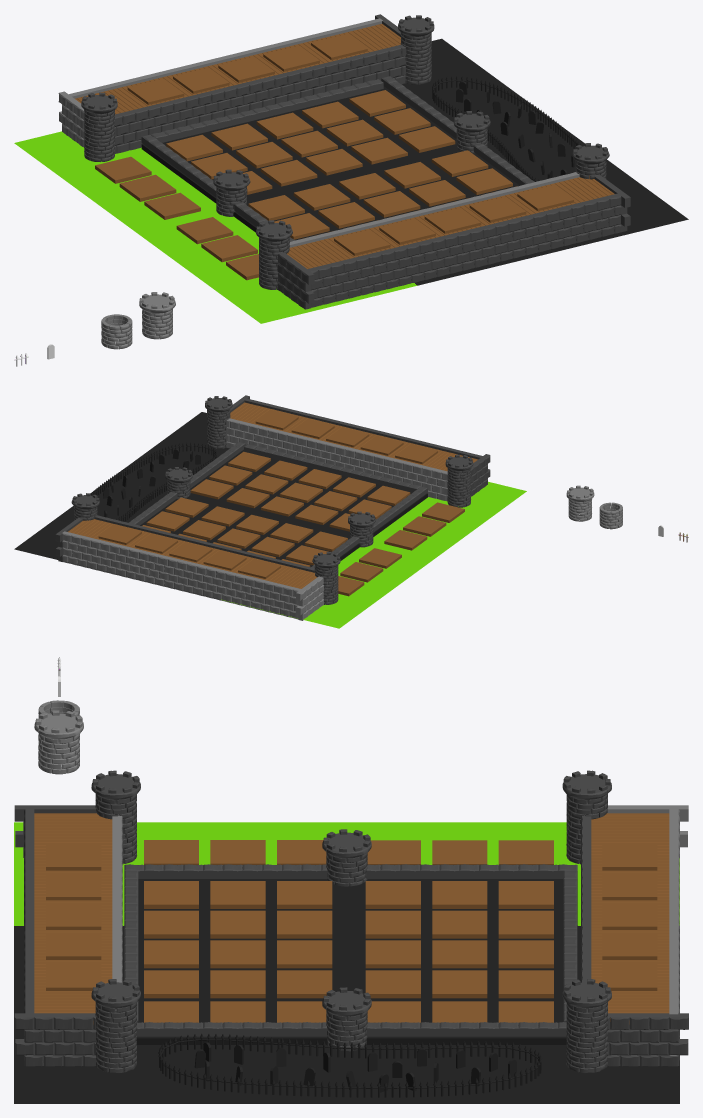
File: NewBoard.fbx
3 views of the same model, one above another, from view 1: azimuth 30°, elevation 25°; view 2: azimuth 150°, elevation 25°; view 3: azimuth 270°, elevation 25° (orthographic). The views are drawn at different scales.
Parts seen in each view (by area): view 1: Plane, Cube, Cube.179, Cube.191, Cube.038, Cube.051, Cube.180, Cube.181, Cube.037, Cube.182, Cube.004, Cube.036 (+55 smaller); view 2: Plane, Cube, Cube.039, Cube.051, Cube.178, Cube.191, Cube.042, Cube.040, Cube.041, Cube.177, Cube.003, Cylinder.001 (+54 smaller); view 3: Plane, Cube, Cube.051, Cube.191, Cylinder.001, Cube.002, Cube.001, Cube.121, Cube.055, Cube.195, Cube.062, Cube.061 (+66 smaller).
Boxes of the visible parts, left/top/right/bottom form: Plane: left=14, top=38, right=688, bottom=323; Cube: left=141, top=86, right=519, bottom=240; Cube.179: left=302, top=193, right=621, bottom=279; Cube.191: left=287, top=175, right=614, bottom=268; Cube.038: left=98, top=44, right=406, bottom=126; Cube.051: left=75, top=24, right=400, bottom=114; Cube.180: left=311, top=205, right=621, bottom=290; Cube.181: left=301, top=214, right=620, bottom=301; Cube.037: left=115, top=56, right=406, bottom=136; Cube.182: left=311, top=224, right=621, bottom=307; Cube.004: left=151, top=79, right=383, bottom=142; Cube.036: left=98, top=66, right=406, bottom=145; Plane: left=14, top=412, right=526, bottom=628; Cube: left=140, top=449, right=427, bottom=567; Cube.039: left=62, top=531, right=304, bottom=596; Cube.051: left=68, top=519, right=316, bottom=588; Cube.178: left=226, top=418, right=459, bottom=483; Cube.191: left=230, top=402, right=477, bottom=471; Cube.042: left=62, top=555, right=298, bottom=619; Cube.040: left=62, top=540, right=298, bottom=604; Cube.041: left=63, top=547, right=305, bottom=613; Cube.177: left=226, top=427, right=447, bottom=487; Cube.003: left=244, top=444, right=420, bottom=492; Cylinder.001: left=90, top=443, right=216, bottom=521; Plane: left=14, top=822, right=679, bottom=1103; Cube: left=136, top=879, right=577, bottom=1044; Cube.051: left=591, top=813, right=669, bottom=1024; Cube.191: left=34, top=813, right=112, bottom=1024; Cylinder.001: left=158, top=1033, right=542, bottom=1097; Cube.002: left=137, top=1022, right=566, bottom=1036; Cube.001: left=124, top=864, right=577, bottom=878; Cube.121: left=34, top=710, right=83, bottom=774; Cube.055: left=562, top=979, right=611, bottom=1042; Cube.195: left=91, top=979, right=140, bottom=1042; Cube.062: left=322, top=987, right=371, bottom=1051; Cube.061: left=322, top=829, right=371, bottom=886.
Size of the model in its own units: 2906 by 244 by 1917.
2 materials, 1 textured.
